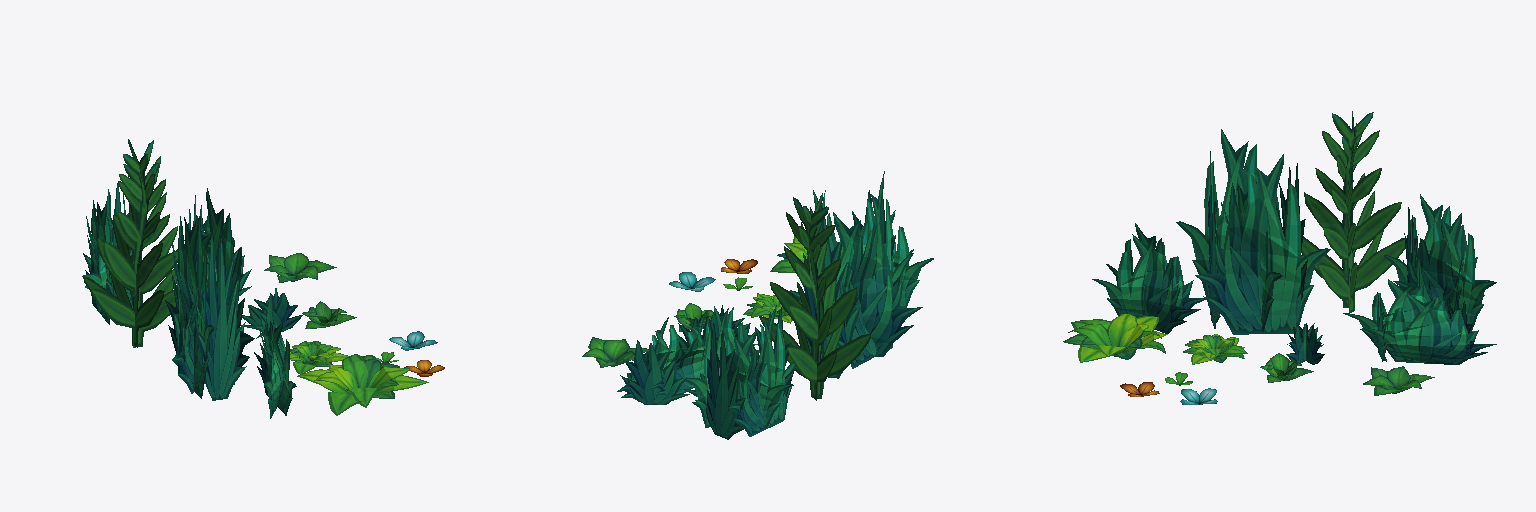
3 views of the same model, side by side, from view 1: azimuth 30°, elevation 25°; view 2: azimuth 150°, elevation 25°; view 3: azimuth 270°, elevation 25° (orthographic).
Visible parts, largest first — view 1: object_0; view 2: object_0; view 3: object_0.
Part boxes in pixels (x1,y1,x2,y2): object_0: (82, 139, 444, 418); object_0: (582, 171, 933, 439); object_0: (1063, 111, 1496, 404).
Bounding box in the file's own units: 959 × 712 × 1350.
Materials: 1 (1 with a texture image).